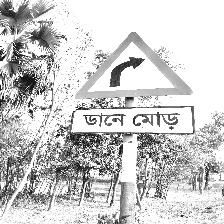Right-turn: (70, 33, 195, 135)
